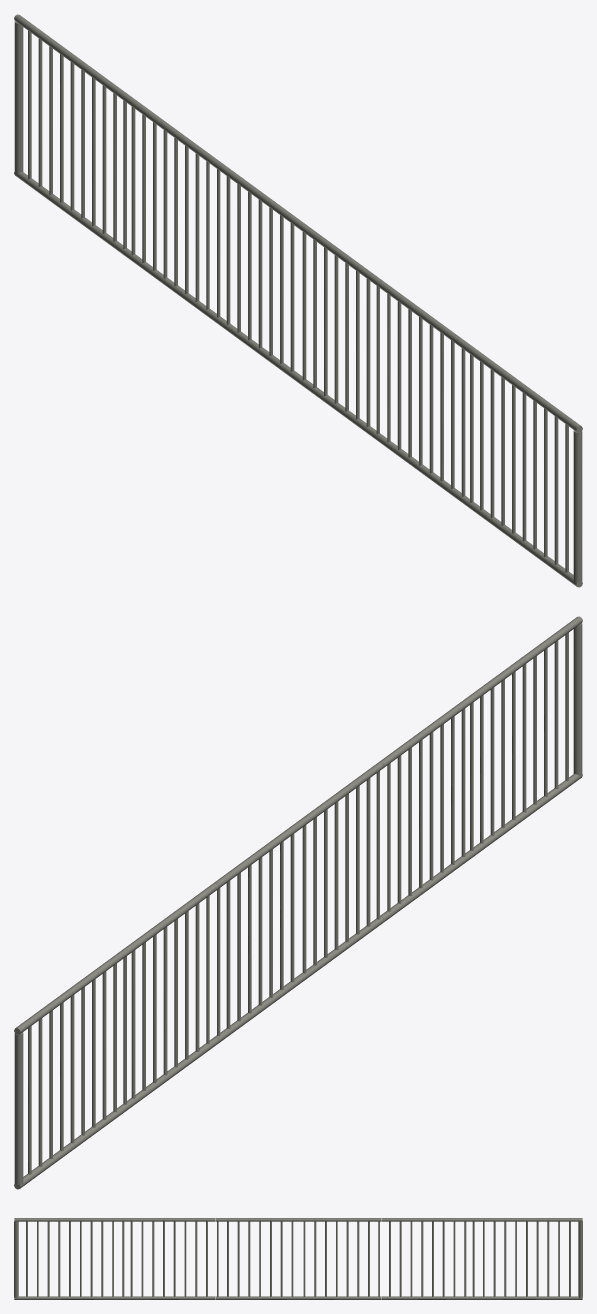
File: fence_long.fbx
3 renders of one model, top to bottom at view 1: azimuth 30°, elevation 25°; view 2: azimuth 150°, elevation 25°; view 3: azimuth 270°, elevation 25°, orthographic. The views are drawn at different scales.
Visible parts, largest first — view 1: fence_long; view 2: fence_long; view 3: fence_long.
Part boxes in pixels (x1,y1,x2,y2): fence_long: (14,14,582,587); fence_long: (14,616,582,1189); fence_long: (14,1218,582,1299).
Bounding box in the file's own units: 4.56 × 90.37 × 571.
